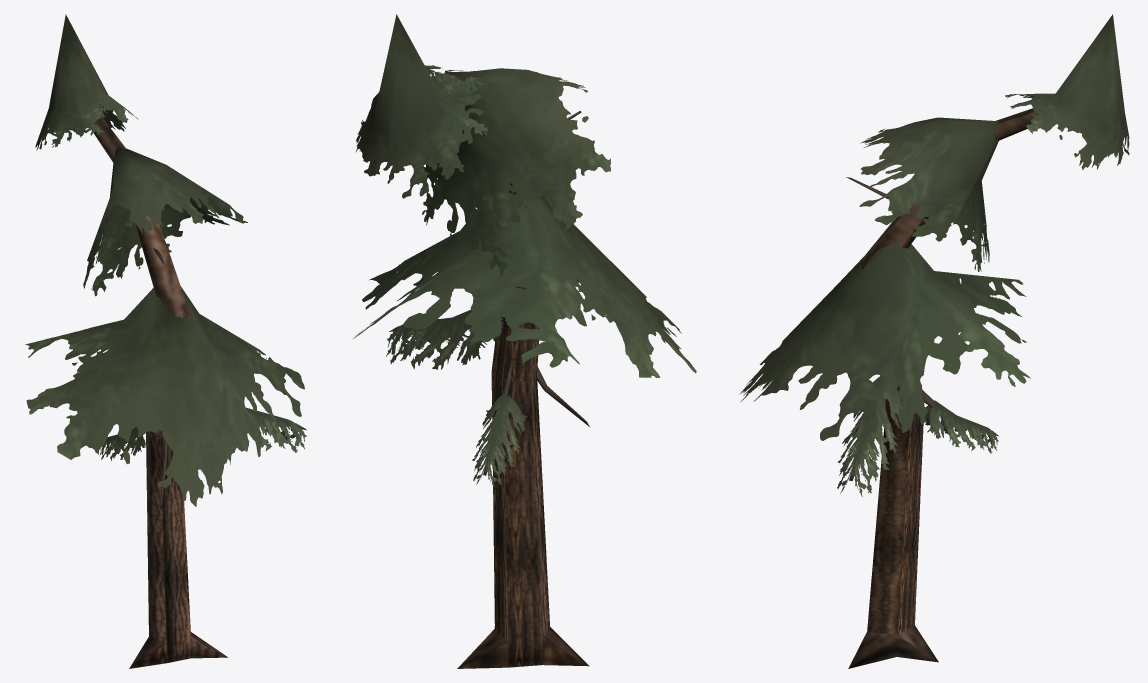
Rendered from Twist Tree L.glb.
The picture shows the model from 3 angles, left to right: view 1: azimuth 30°, elevation 25°; view 2: azimuth 150°, elevation 25°; view 3: azimuth 270°, elevation 25°; orthographic projection. The views are drawn at different scales.
Visible parts, largest first — view 1: Large Twist; view 2: Large Twist; view 3: Large Twist.
Boxes of the visible parts, left/top/right/bottom form: Large Twist: left=25, top=14, right=306, bottom=668; Large Twist: left=353, top=14, right=696, bottom=668; Large Twist: left=739, top=14, right=1129, bottom=668.
Bounding box in the file's own units: 9.31 × 18.8 × 10.91.
Materials: 2 (2 with a texture image).
